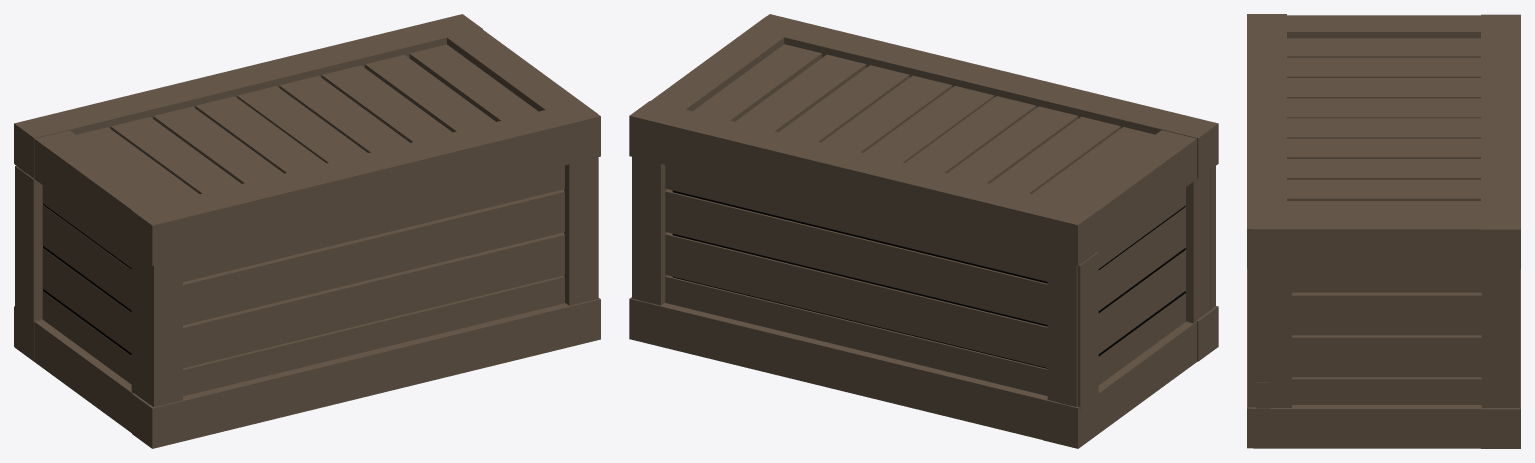
Rendered from longBoxProp.fbx.
3 renders of one model, left to right at view 1: azimuth 30°, elevation 25°; view 2: azimuth 150°, elevation 25°; view 3: azimuth 270°, elevation 25°, orthographic.
Visible parts, largest first — view 1: polySurface6324, polySurface6323, polySurface6329, polySurface6327, polySurface6332, polySurface6328, polySurface6330, polySurface6309, polySurface6316, polySurface6326, polySurface6325, polySurface6310 (+17 smaller); view 2: polySurface6332, polySurface6331, polySurface6336, polySurface6334, polySurface6324, polySurface6335, polySurface6337, polySurface6309, polySurface6316, polySurface6310, polySurface6333, polySurface6308 (+18 smaller); view 3: polySurface6316, polySurface6332, polySurface6315, polySurface6321, polySurface6324, polySurface6319, polySurface6320, polySurface6317, polySurface6309, polySurface6322, polySurface6339, polySurface6340 (+15 smaller).
Boxes of the visible parts, x1,y1,x2,y2 form: polySurface6324: (132,110,600,265); polySurface6323: (132,298,600,448); polySurface6329: (183,189,564,325); polySurface6327: (183,232,564,368); polySurface6332: (14,14,482,178); polySurface6328: (183,275,565,396); polySurface6330: (183,165,564,281); polySurface6309: (15,130,167,249); polySurface6316: (427,14,597,122); polySurface6326: (148,258,182,407); polySurface6325: (564,157,598,305); polySurface6310: (15,320,132,432); polySurface6332: (629,101,1098,265); polySurface6331: (629,297,1098,448); polySurface6336: (665,189,1047,324); polySurface6334: (665,232,1047,367); polySurface6324: (750,14,1218,178); polySurface6335: (665,275,1047,395); polySurface6337: (665,165,1088,281); polySurface6309: (1043,130,1197,265); polySurface6316: (631,16,800,124); polySurface6310: (1043,321,1196,448); polySurface6333: (632,157,666,305); polySurface6308: (1047,258,1077,406); polySurface6316: (1253,212,1520,268); polySurface6332: (1481,14,1520,269); polySurface6315: (1253,405,1520,448); polySurface6321: (1292,292,1481,335); polySurface6324: (1247,14,1286,268); polySurface6319: (1292,335,1481,377); polySurface6320: (1292,377,1481,404); polySurface6317: (1481,269,1517,407); polySurface6309: (1287,15,1480,38); polySurface6322: (1292,269,1481,292); polySurface6339: (1287,179,1480,200); polySurface6340: (1287,57,1480,77).
Size of the model in its own units: 1.7 by 0.8096 by 0.9131.
